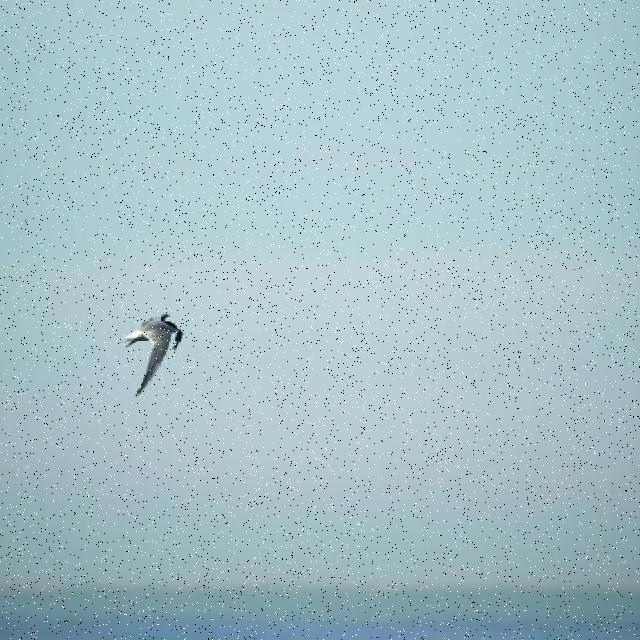bird: (104, 313, 184, 398)
